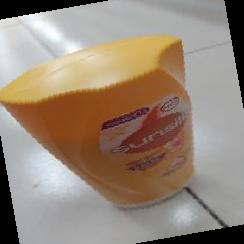sunsilk yellow: (1, 37, 199, 211)
